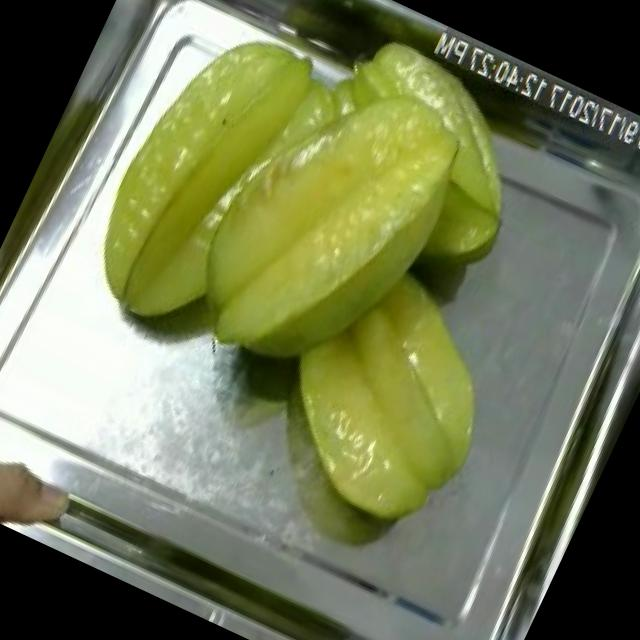fruit: (47, 0, 493, 428), (235, 232, 542, 559), (0, 405, 88, 550)
